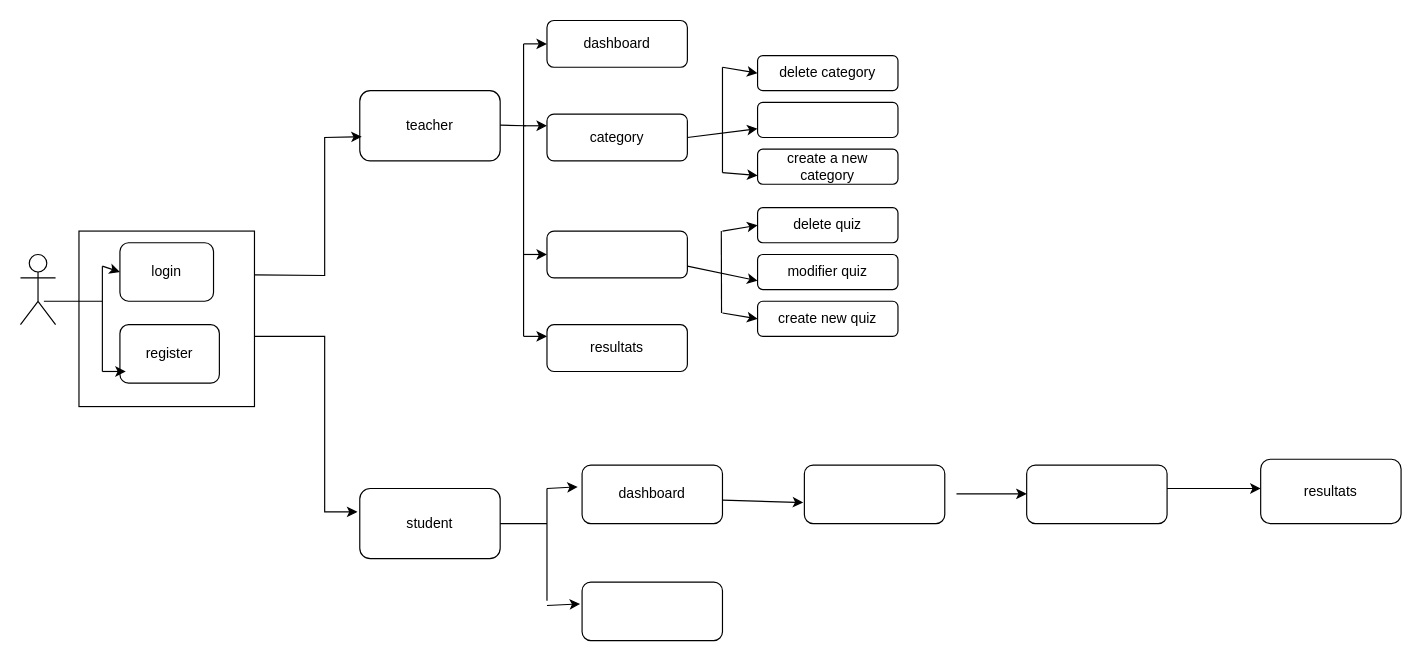
This 1422x661 diagram has some shape labels left out. The shapes that lost their labels are listed below. From the top down, each one's centre as x and y in pixels, then its label:
At point (827, 119): "modifier category".
At point (616, 254): "quiz".
At point (37, 289): "Actor".
At point (874, 494): "choose une quiz".
At point (1096, 494): "repondre sur question".
At point (651, 611): "history".
